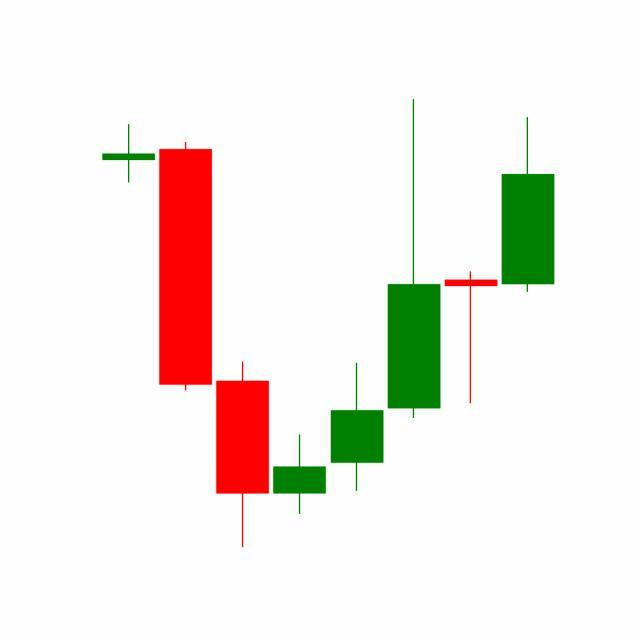Hikkake Pattern: (270, 99, 555, 519)
